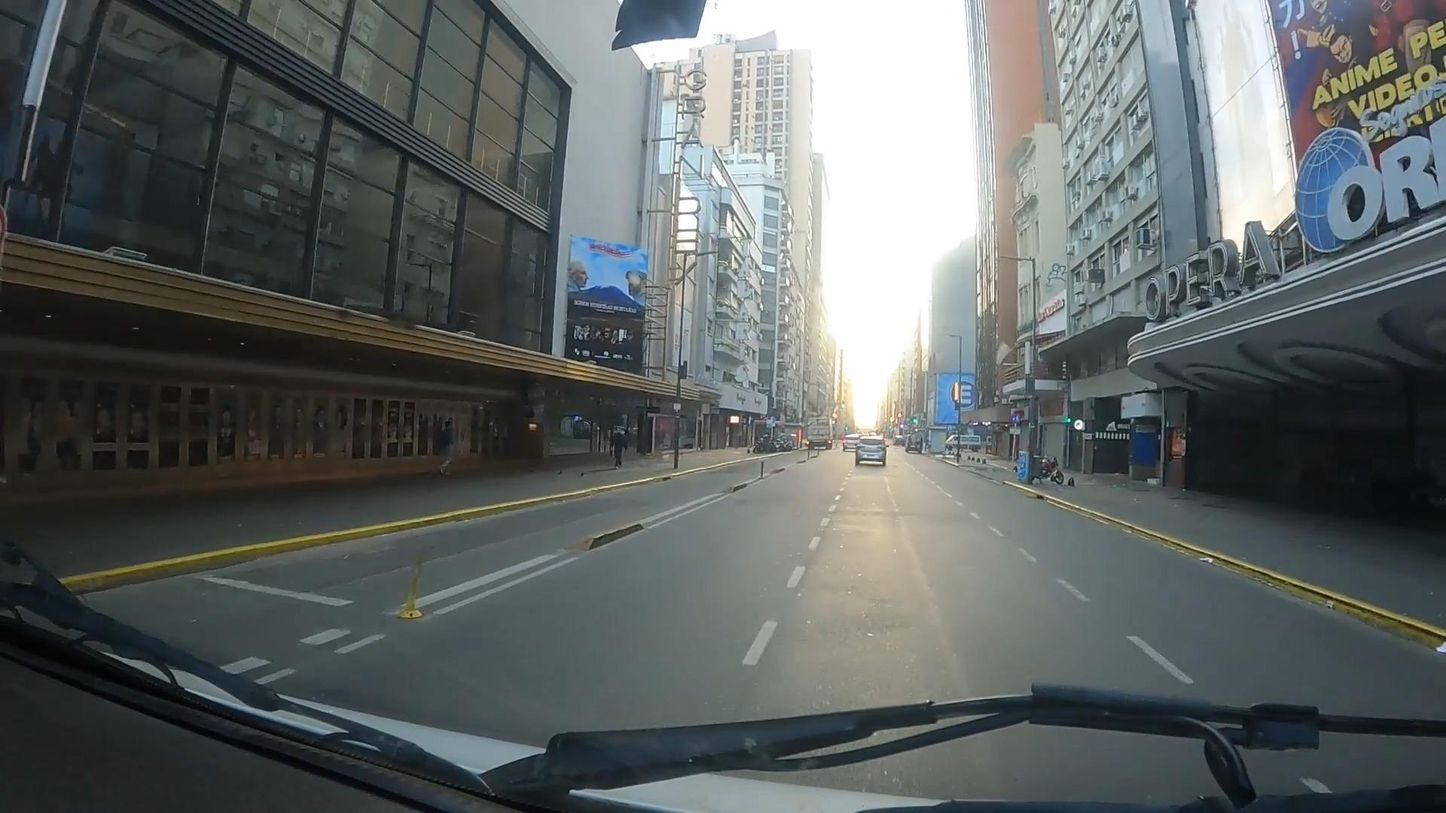dry: (79, 446, 1445, 722)
